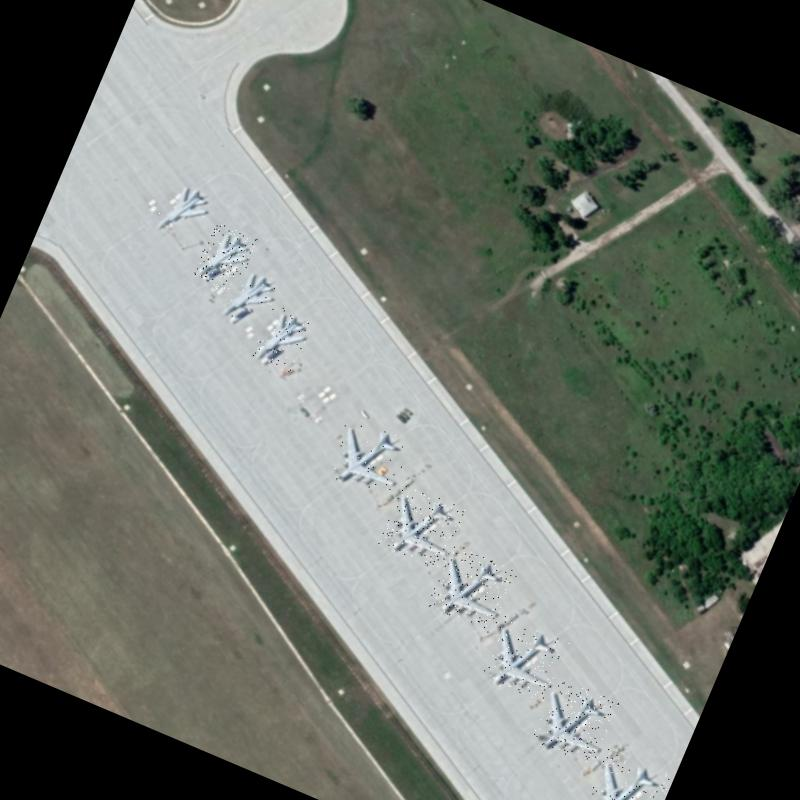A12: (191, 222, 258, 297), (150, 174, 216, 246), (250, 304, 315, 377), (217, 264, 281, 334)
A17: (530, 676, 621, 767), (426, 544, 518, 634), (322, 414, 415, 503), (478, 616, 570, 705), (378, 483, 466, 571), (581, 749, 673, 800)
